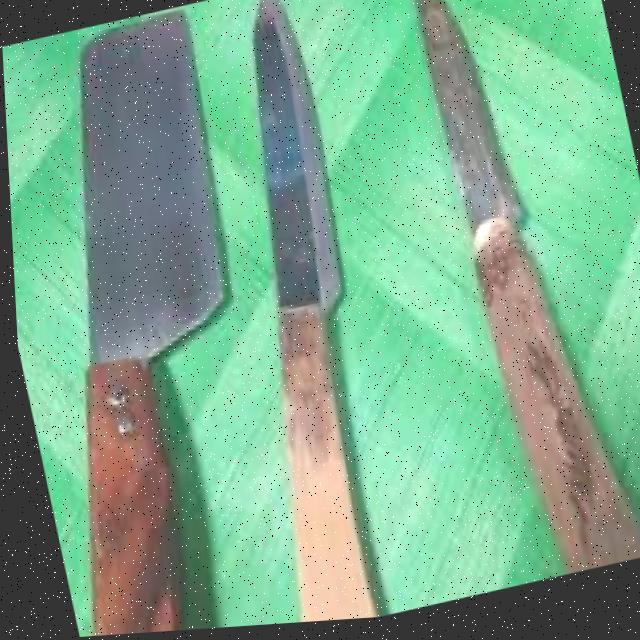knife: (1, 2, 309, 640), (165, 0, 416, 631), (405, 0, 640, 594)
